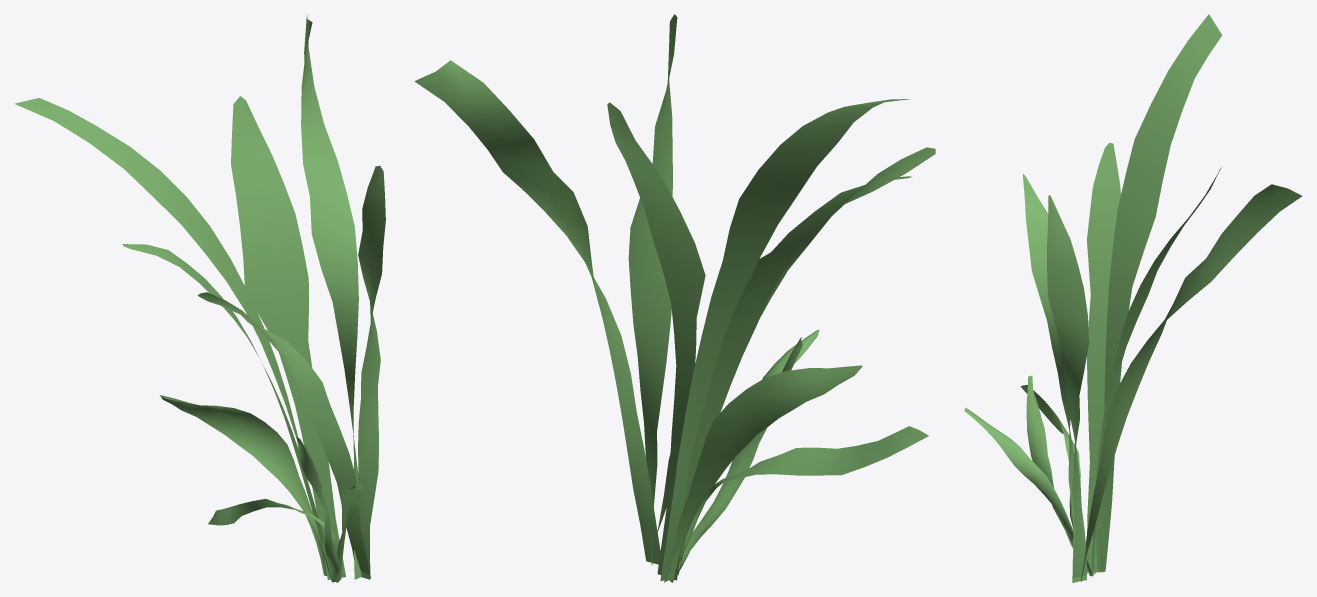
The model's file is SM_SnakePlant_03.glb.
3 views of the same model, side by side, from view 1: azimuth 30°, elevation 25°; view 2: azimuth 150°, elevation 25°; view 3: azimuth 270°, elevation 25° (orthographic). The views are drawn at different scales.
Parts seen in each view (by area): view 1: SM_SnakePlant_03; view 2: SM_SnakePlant_03; view 3: SM_SnakePlant_03.
Part boxes in pixels (bbox=[...]): SM_SnakePlant_03: bbox=[14, 14, 385, 582]; SM_SnakePlant_03: bbox=[414, 14, 935, 582]; SM_SnakePlant_03: bbox=[964, 14, 1302, 582].
Size of what is drawn, in the model's own units: 17.31 by 23.71 by 16.21.
